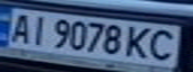0: (66, 18, 87, 52)
7: (84, 20, 106, 54)
8: (103, 21, 127, 56)
9: (48, 16, 72, 50)
A: (3, 11, 36, 44)
C: (145, 27, 184, 62)
I: (24, 12, 51, 46)
K: (124, 25, 154, 61)
